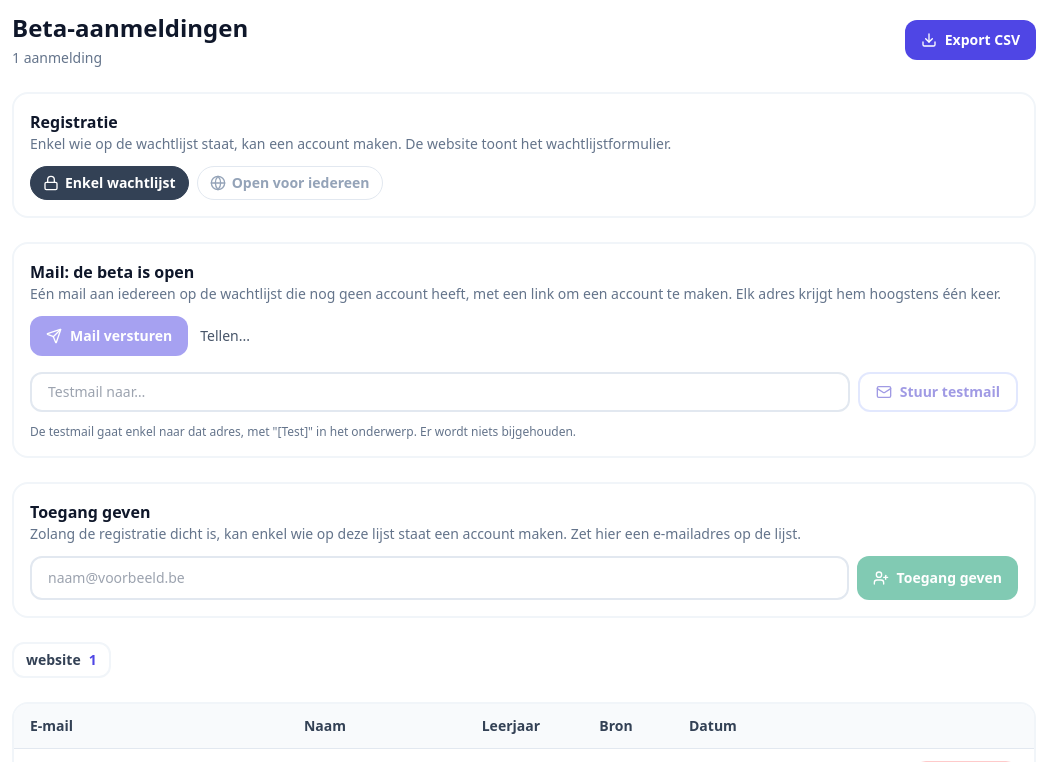
Test: AdminBetaSignups › Toegang geven › puts the email (lowercased) on the list with source "admin · toegang"
The width and height of the screenshot is (1048, 762).
Expected: the text "1 aanmelding" is shown, [12,48,102,67]
Type "  Nieuw@Example.test " into the field named "E-mailadres" at (439, 578), box [30,556,849,600]
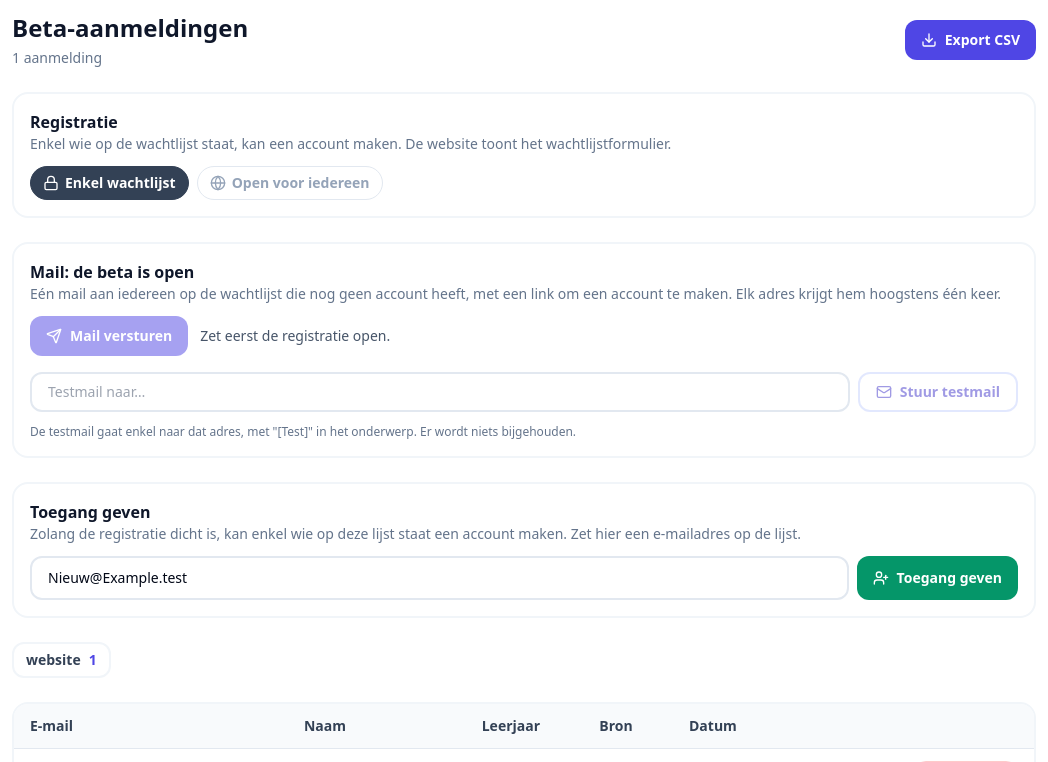
Click the button "Toegang geven" at (937, 578), box [857,556,1018,600]
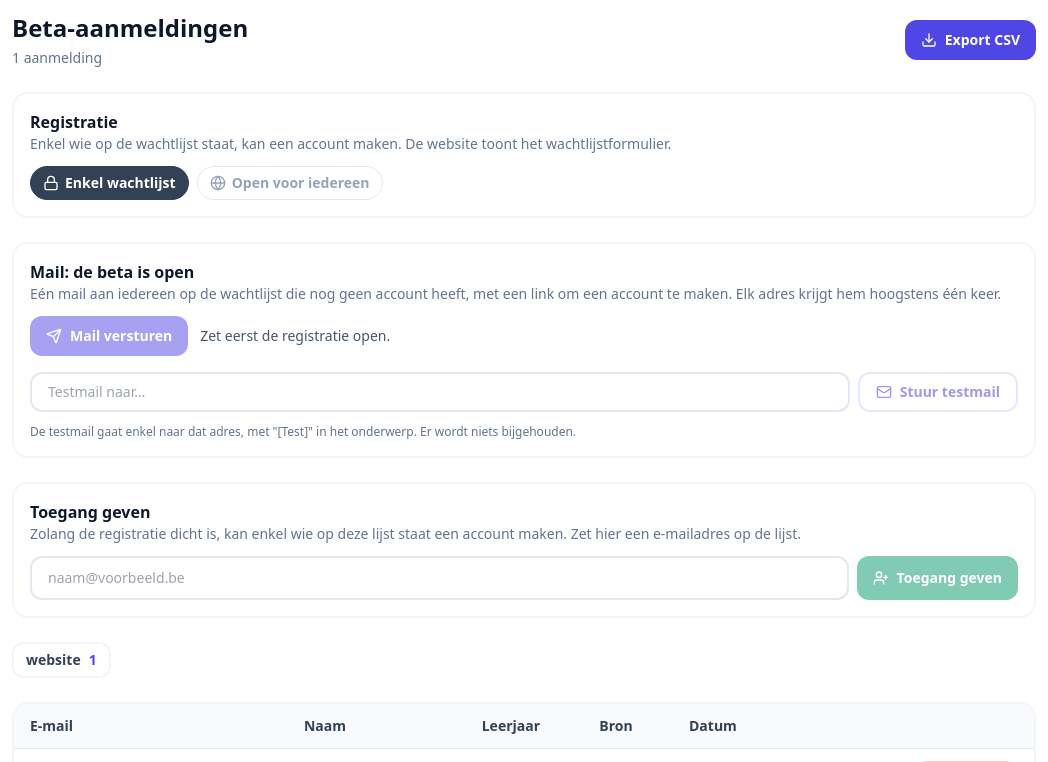
Now the field named "E-mailadres" is empty, box [30,556,849,600]
